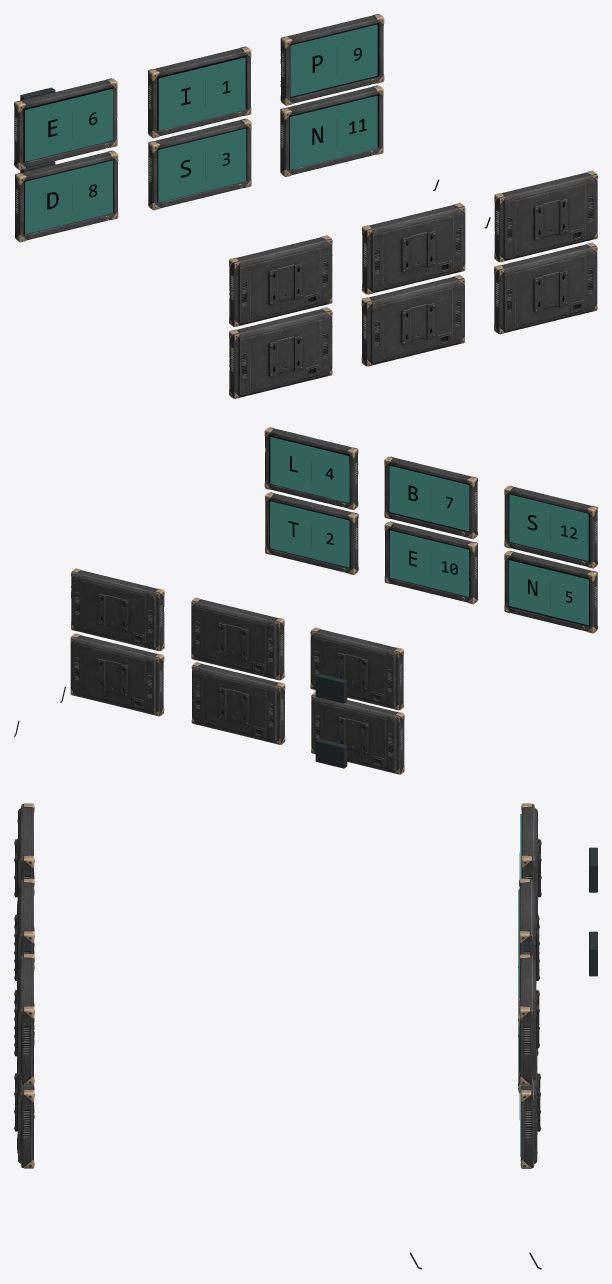
Rendered from SILENT_Room_06_B_TV.fbx.
3 renders of one model, top to bottom at view 1: azimuth 30°, elevation 25°; view 2: azimuth 150°, elevation 25°; view 3: azimuth 270°, elevation 25°, orthographic. The views are drawn at different scales.
Parts seen in each view (by area): view 1: Room_06_B_TV_Merged; view 2: Room_06_B_TV_Merged; view 3: Room_06_B_TV_Merged.
Boxes of the visible parts, x1=… form: Room_06_B_TV_Merged: x1=14, y1=14, x2=597, y2=398; Room_06_B_TV_Merged: x1=14, y1=427, x2=597, y2=774; Room_06_B_TV_Merged: x1=14, y1=803, x2=597, y2=1269.
Size of the model in its own units: 6.41 by 2.81 by 6.57.
17 materials, 12 textured.
